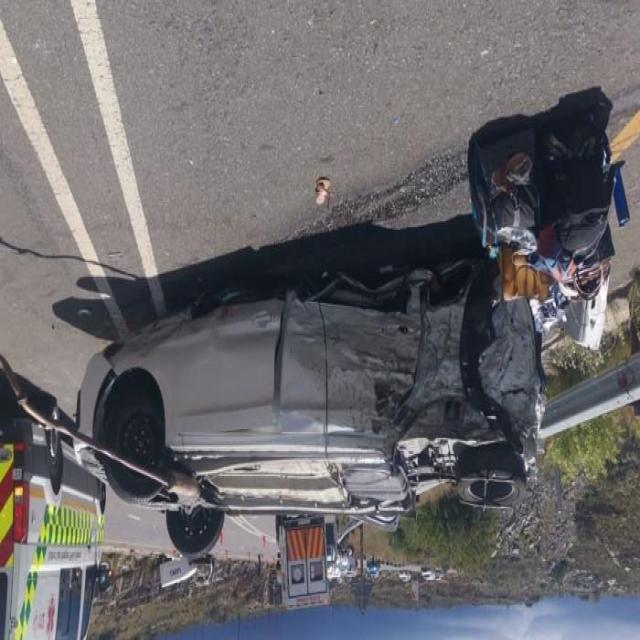severe: (68, 258, 545, 570)
